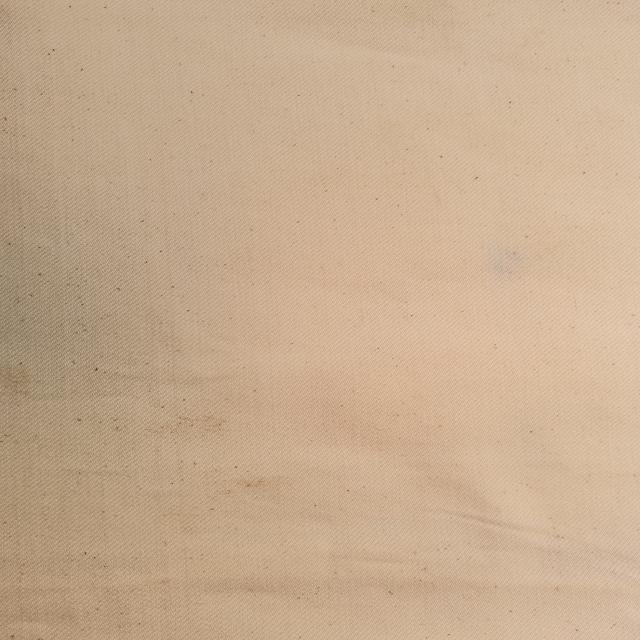taaaches: (164, 410, 232, 438), (238, 469, 280, 492)
